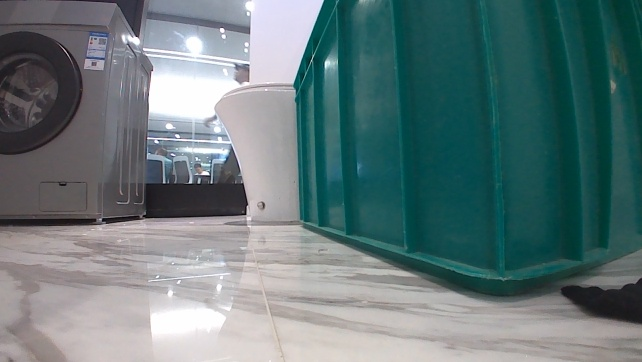socks: (555, 273, 641, 328)
toilet: (210, 78, 308, 225)
washing_machine: (0, 0, 153, 228)
